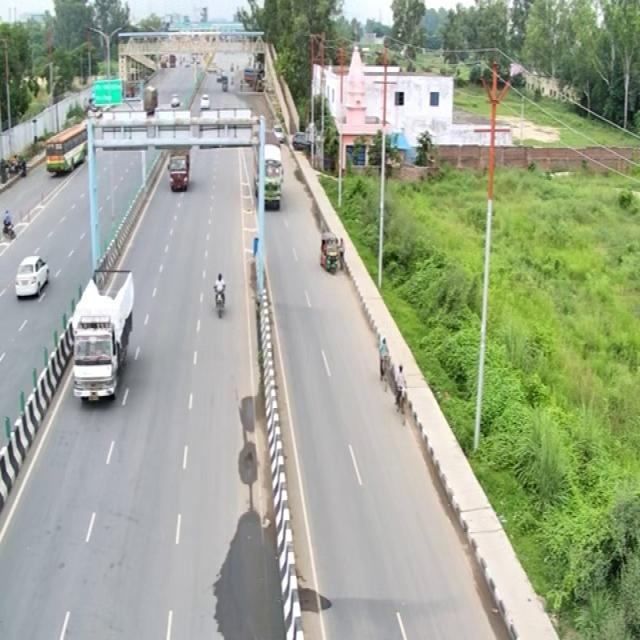car: (13, 251, 51, 300), (164, 148, 195, 195)
